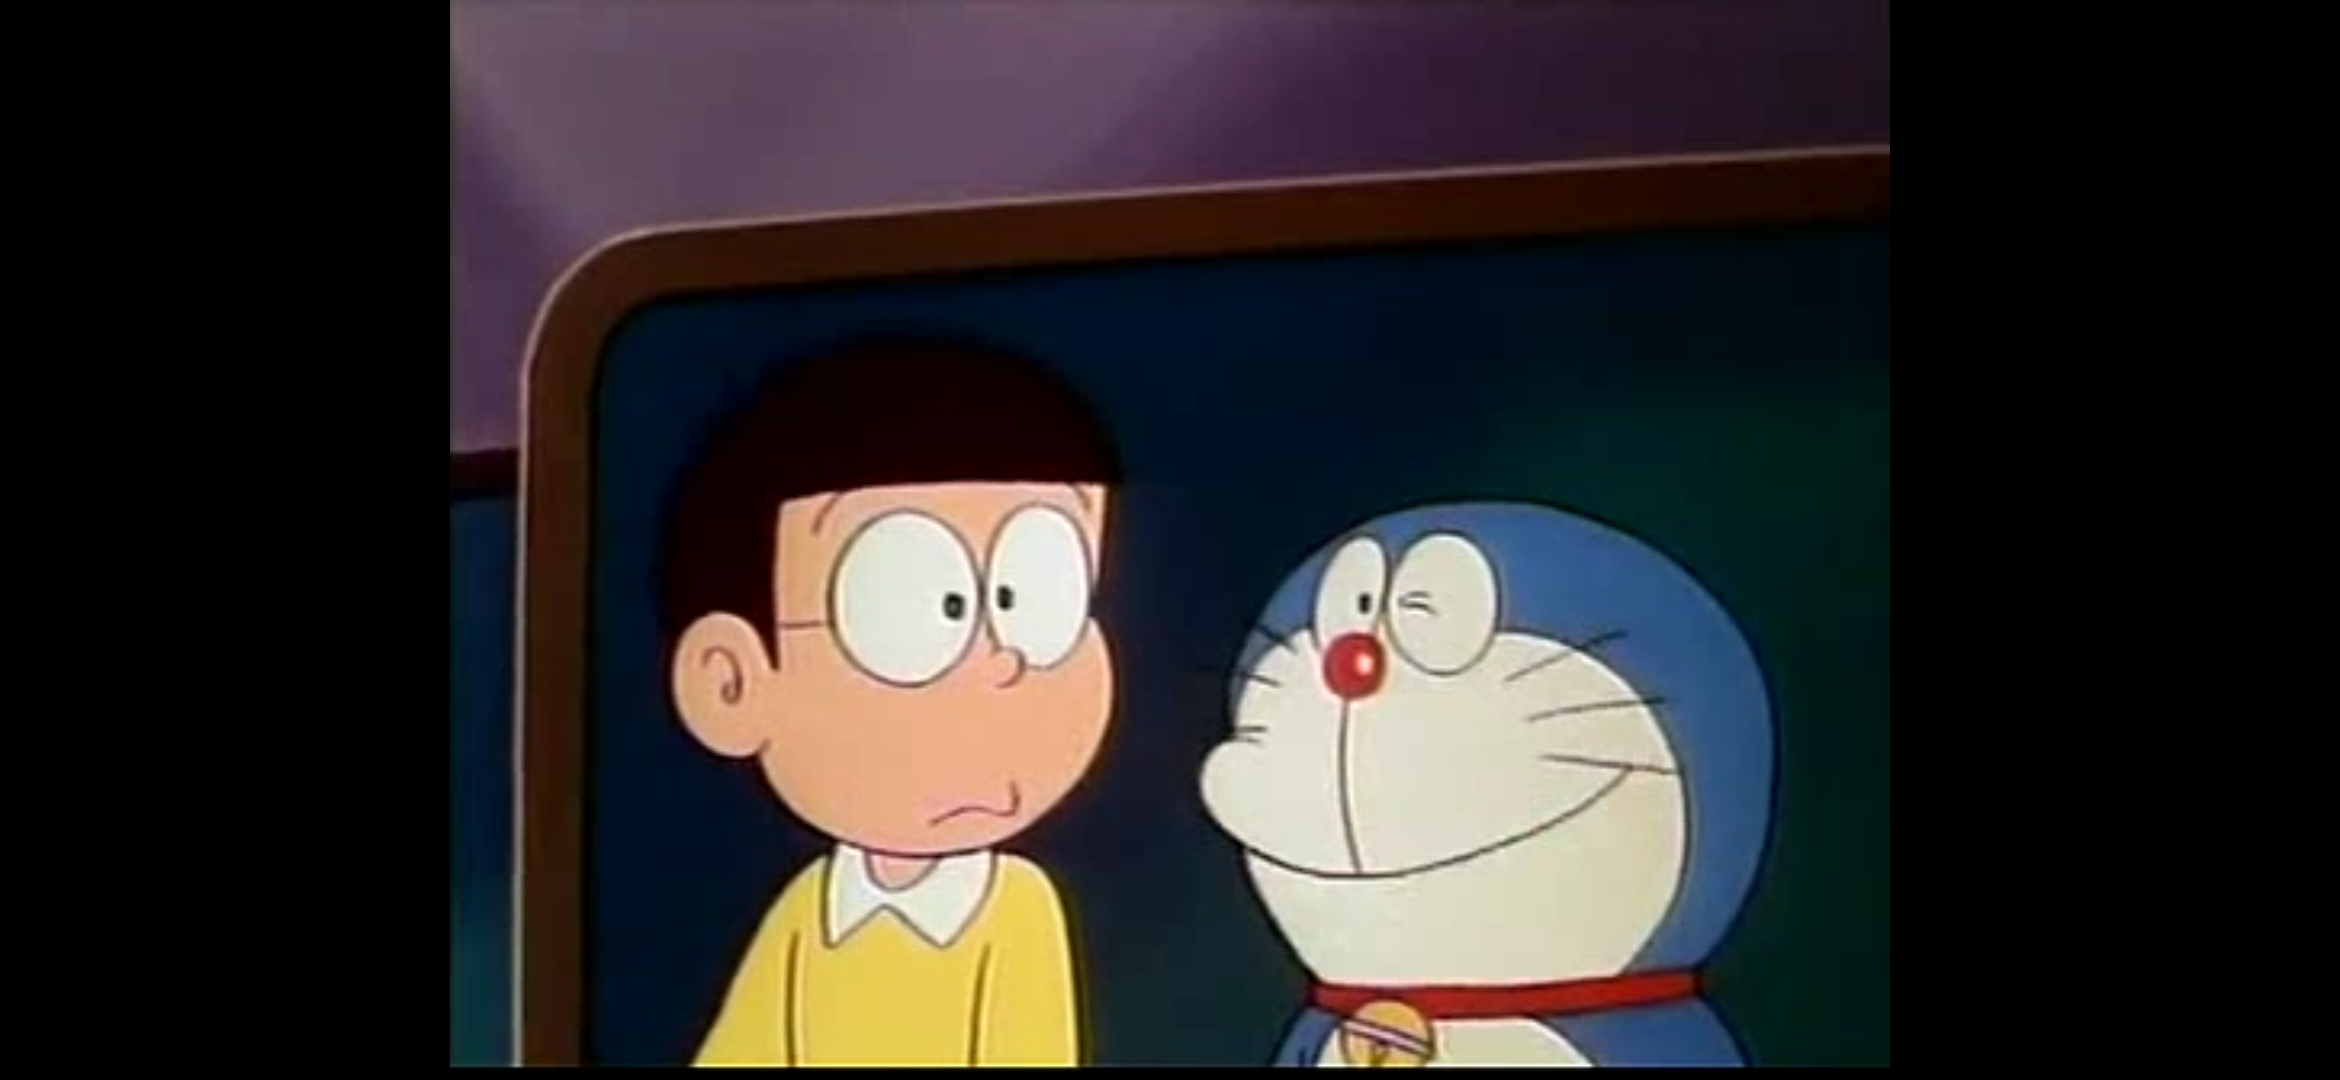Doraemon: (1200, 498, 1774, 1067)
Nobi: (661, 342, 1113, 852)
